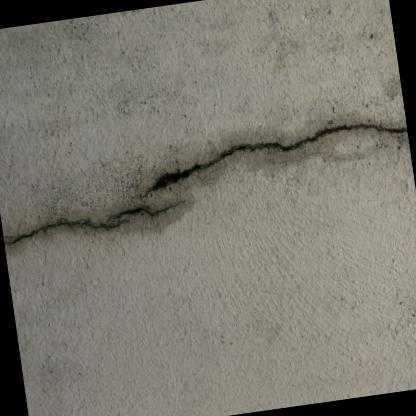crack: (145, 123, 407, 191), (3, 218, 126, 246), (108, 199, 187, 218)
